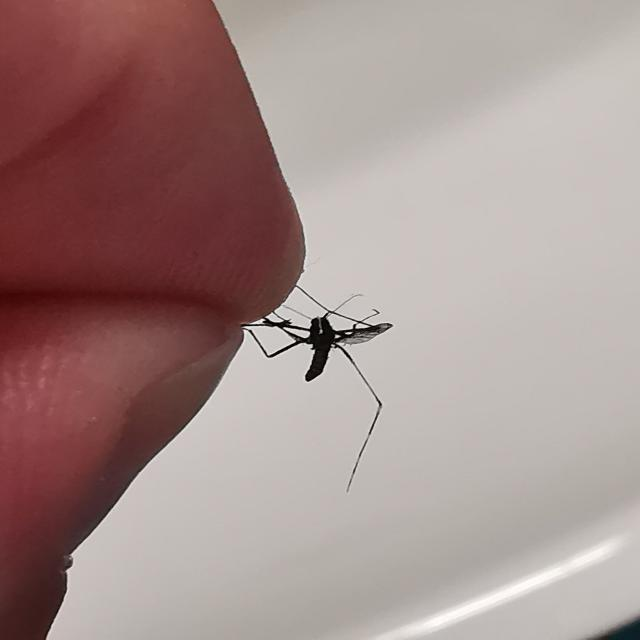albopictus: (234, 217, 411, 485)
